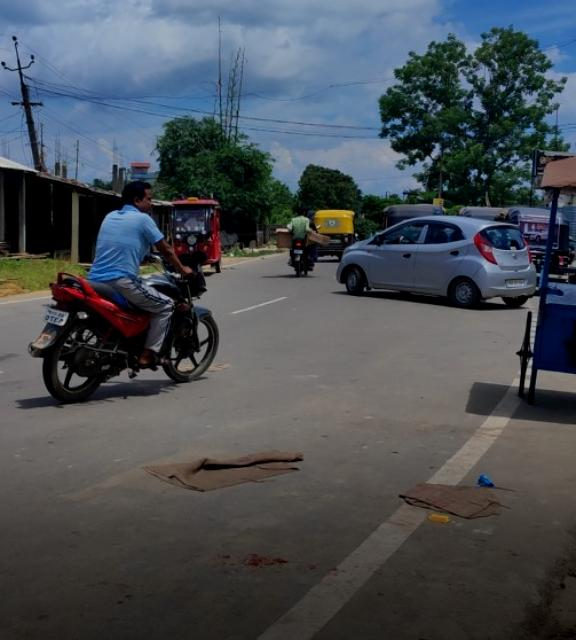licensePlate: (40, 307, 69, 327), (294, 250, 302, 254)
motorcycle: (25, 178, 217, 401), (273, 202, 323, 276)
withoutHelmet: (120, 181, 151, 212), (296, 207, 307, 217)
